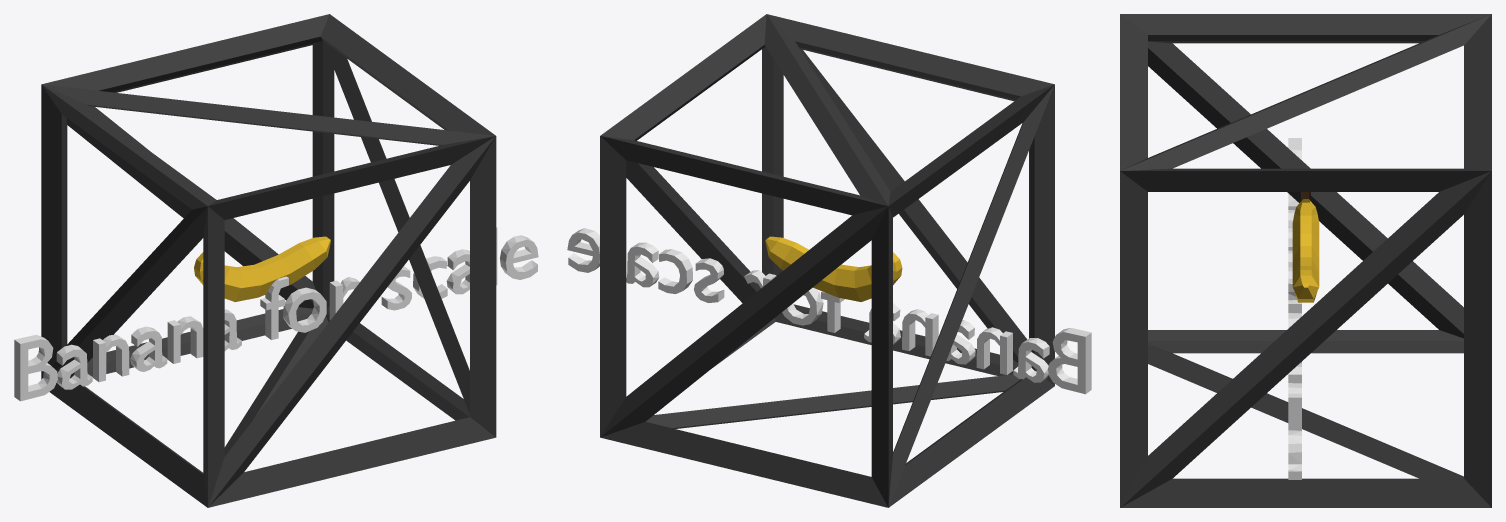
File: package-3.glb
3 views of the same model, side by side, from view 1: azimuth 30°, elevation 25°; view 2: azimuth 150°, elevation 25°; view 3: azimuth 270°, elevation 25° (orthographic). The views are drawn at different scales.
Parts seen in each view (by area): view 1: package-3; view 2: package-3; view 3: package-3.
Boxes of the visible parts, x1,y1,x2,y2 form: package-3: (14,14,538,507); package-3: (567,14,1091,507); package-3: (1120,14,1491,507).
Size of the model in its own units: 0.7605 by 0.4231 by 0.4231.
